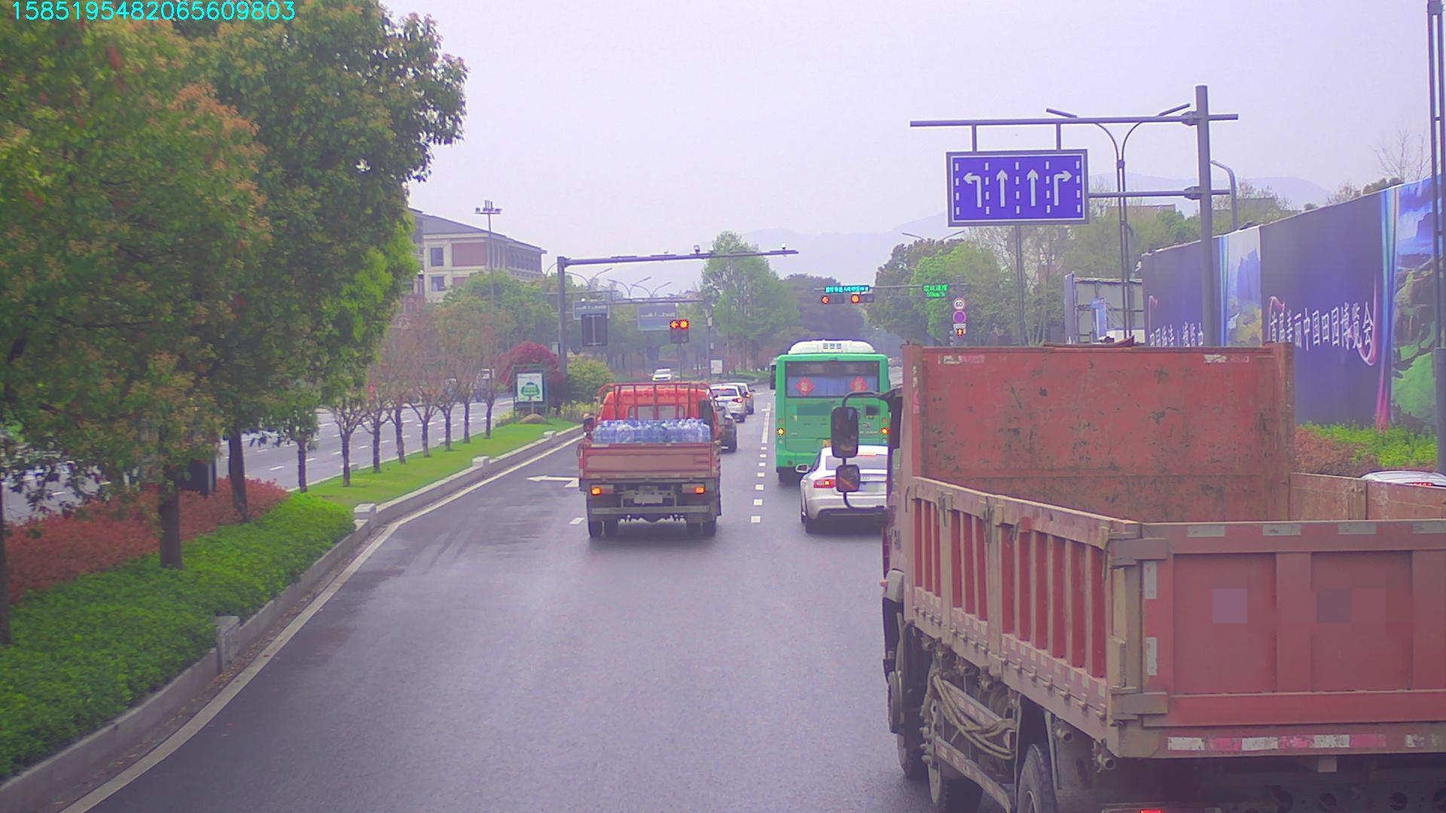red: (848, 292, 875, 306), (817, 292, 841, 304)
wait_on: (819, 282, 877, 294)
